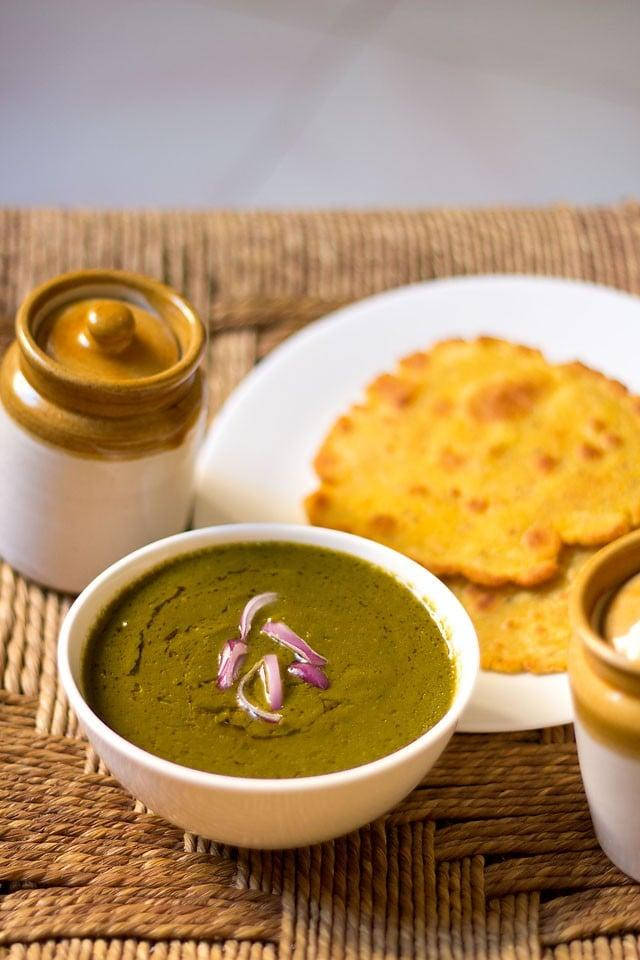saag: (88, 540, 440, 777)
